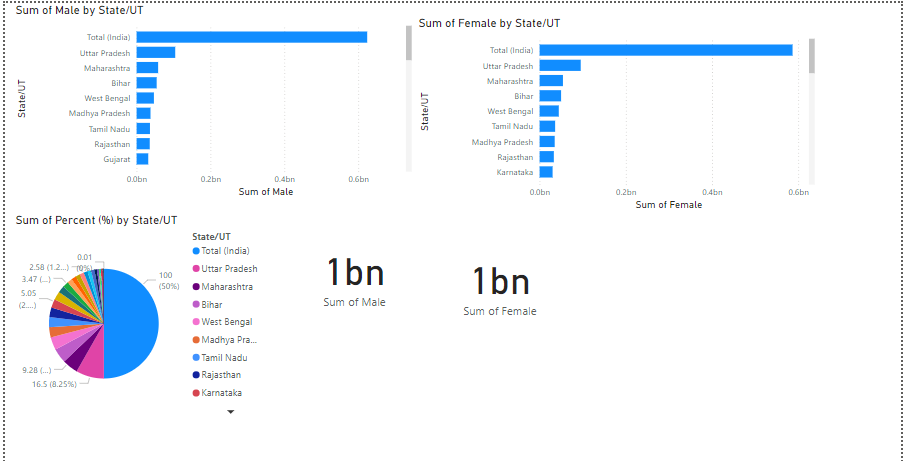

The page's visual inventory and layout, read from the dashboard file:
{"tool":"powerbi","page":{"name":"Page 3","canvas":[1280,720],"ordinal":0},"visuals":[{"type":"barChart","fields":{"Category":["Population distribution by states/union territories (2011).State/UT"],"Y":["Sum(Population distribution by states/union territories (2011).Male)"]},"box":[10,0,575.7,282.9],"z":0},{"type":"barChart","fields":{"Category":["Population distribution by states/union territories (2011).State/UT"],"Y":["Sum(Population distribution by states/union territories (2011).Female)"]},"box":[585.7,18.6,575.7,282.9],"z":1000},{"type":"pieChart","fields":{"Y":["Sum(Population distribution by states/union territories (2011).Percent (%))"],"Category":["Population distribution by states/union territories (2011).State/UT"]},"box":[10,300,371.4,297.1],"z":2000},{"type":"card","fields":{"Values":["Sum(Population distribution by states/union territories (2011).Male)"]},"box":[381.4,300,235.7,175.7],"z":3000},{"type":"card","fields":{"Values":["Sum(Population distribution by states/union territories (2011).Female)"]},"box":[617.1,325.7,180,150],"z":4000}]}

Visuals, with their boxes on the page's 1280x720 design canvas (x1, y1, x2, y2). These are canvas units, not pixel positions in the 903x461 screenshot, which may show the page scaled, cropped or inside an application window:
barChart - Population distribution by states/union territories (2011).State/UT x Sum(Population distribution by states/union territories (2011).Male): [10, 0, 586, 283]
barChart - Population distribution by states/union territories (2011).State/UT x Sum(Population distribution by states/union territories (2011).Female): [586, 19, 1161, 302]
pieChart - Sum(Population distribution by states/union territories (2011).Percent (%)) x Population distribution by states/union territories (2011).State/UT: [10, 300, 381, 597]
card - Sum(Population distribution by states/union territories (2011).Male): [381, 300, 617, 476]
card - Sum(Population distribution by states/union territories (2011).Female): [617, 326, 797, 476]
